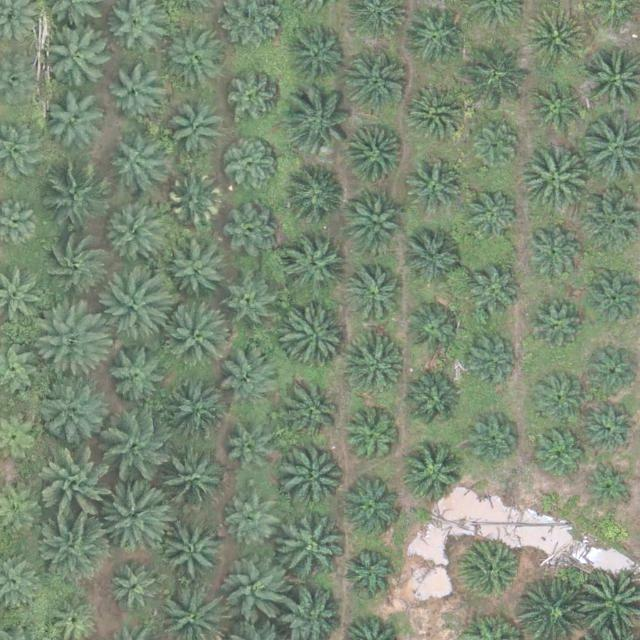Kelapa_Sawit: (279, 439, 349, 510), (155, 447, 225, 518), (102, 274, 172, 345), (43, 452, 113, 523), (40, 164, 110, 235), (40, 24, 110, 95), (518, 144, 588, 214), (284, 89, 354, 159), (275, 510, 345, 580), (163, 302, 233, 372), (103, 413, 173, 483), (100, 479, 170, 549), (40, 512, 110, 582), (35, 373, 105, 443), (35, 301, 105, 371), (38, 230, 108, 300), (462, 36, 532, 106), (221, 557, 291, 627), (402, 83, 464, 146), (403, 226, 465, 289), (400, 371, 462, 434), (401, 443, 463, 506), (344, 336, 406, 399), (284, 166, 346, 229), (282, 236, 344, 299), (282, 308, 344, 371), (162, 519, 224, 582), (166, 239, 228, 302), (103, 339, 165, 402), (48, 89, 110, 152), (163, 26, 225, 89), (287, 23, 349, 86), (345, 50, 407, 113), (405, 8, 467, 71), (524, 7, 586, 70), (460, 540, 522, 602), (344, 124, 406, 186), (344, 190, 406, 252), (340, 478, 402, 540), (283, 380, 345, 442), (221, 345, 283, 407), (163, 380, 225, 442), (100, 203, 162, 265), (469, 118, 524, 173), (463, 185, 518, 240), (465, 265, 520, 320), (461, 329, 516, 384), (524, 296, 579, 351), (408, 161, 463, 216), (346, 412, 401, 467), (341, 545, 396, 600), (106, 64, 161, 119), (107, 137, 162, 192), (108, 561, 163, 616), (528, 83, 583, 138), (465, 413, 519, 468), (533, 424, 587, 479), (531, 371, 585, 426), (525, 223, 579, 278), (584, 346, 638, 401), (585, 399, 639, 454), (405, 299, 459, 354), (348, 264, 402, 319), (225, 73, 279, 128), (223, 141, 277, 196), (225, 203, 279, 258), (223, 276, 277, 331), (223, 429, 277, 484), (227, 494, 281, 549), (167, 174, 221, 229), (167, 102, 221, 157), (586, 460, 632, 507)
